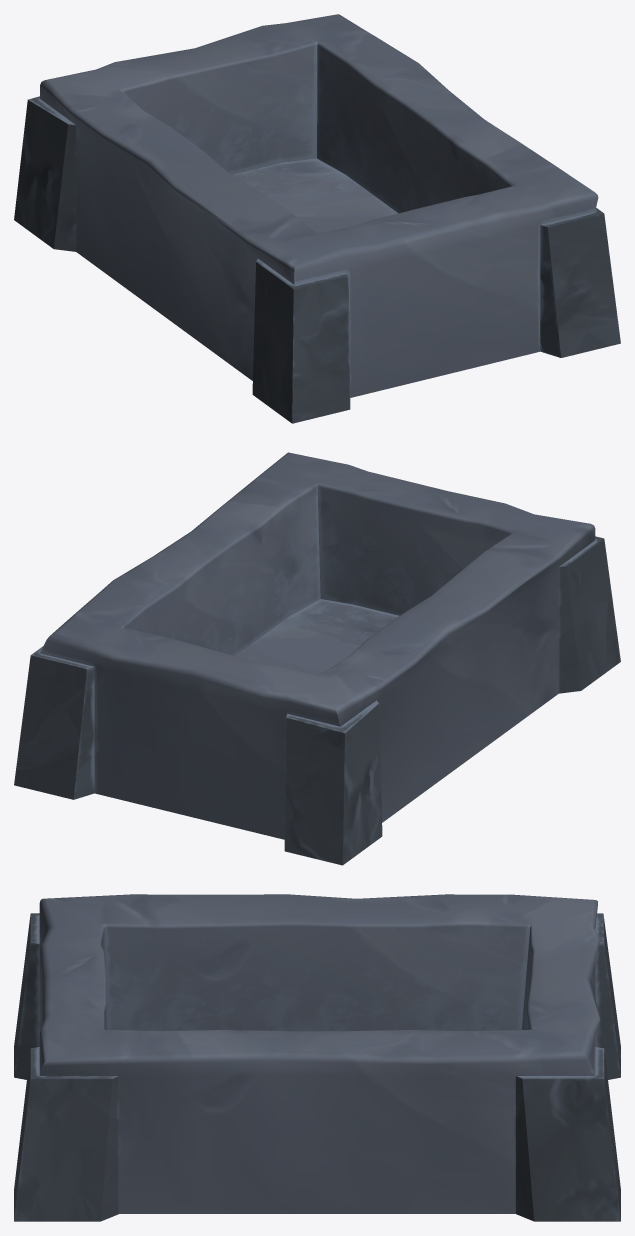
The model's file is StoneTableNew.fbx.
3 renders of one model, top to bottom at view 1: azimuth 30°, elevation 25°; view 2: azimuth 150°, elevation 25°; view 3: azimuth 270°, elevation 25°, orthographic. The views are drawn at different scales.
Parts seen in each view (by area): view 1: TableNEW; view 2: TableNEW; view 3: TableNEW.
Part boxes in pixels (box(x1,y1,x2,y2)): TableNEW: box(14, 14, 620, 423); TableNEW: box(14, 452, 620, 865); TableNEW: box(14, 894, 620, 1221).
Bounding box in the file's own units: 1258 × 528 × 1844.
